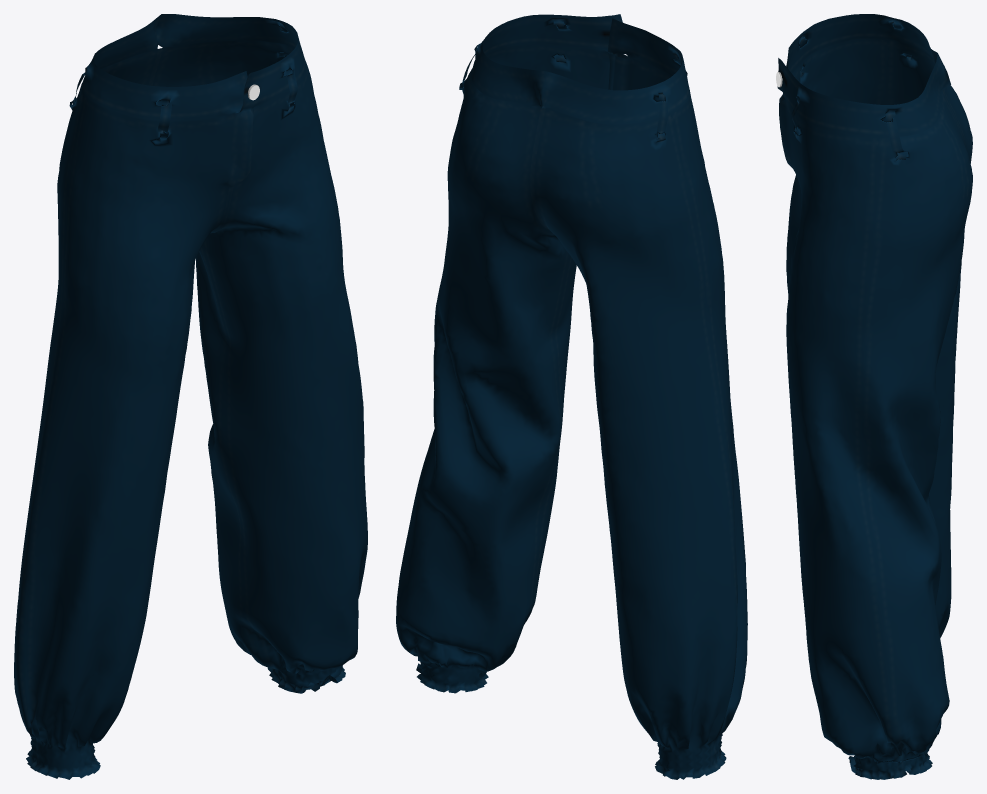
3 renders of one model, left to right at view 1: azimuth 30°, elevation 25°; view 2: azimuth 150°, elevation 25°; view 3: azimuth 270°, elevation 25°, orthographic. The views are drawn at different scales.
Parts seen in each view (by area): view 1: Model_5; view 2: Model_5; view 3: Model_5.
Part boxes in pixels (x1,y1,x2,y2): Model_5: (14, 14, 367, 779); Model_5: (396, 14, 747, 779); Model_5: (776, 14, 972, 779).
Bounding box in the file's own units: 2.86 × 5.63 × 1.46.
Materials: 2 (1 with a texture image).
